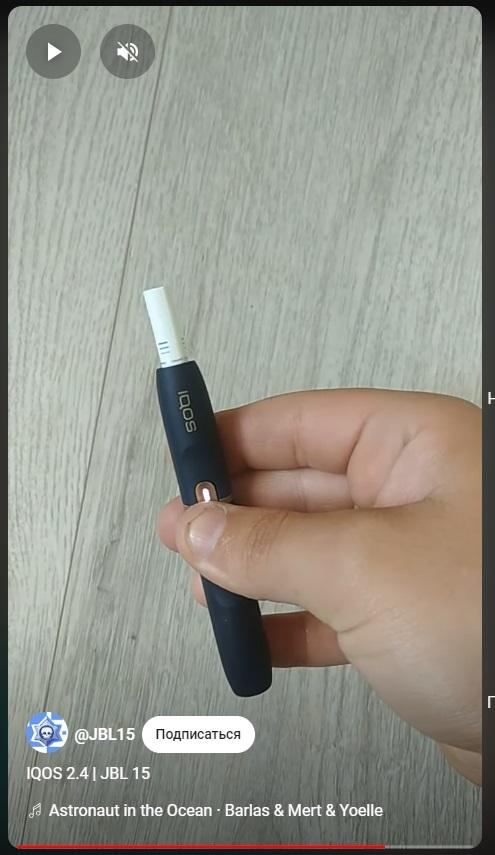iqos: (141, 285, 274, 698)
